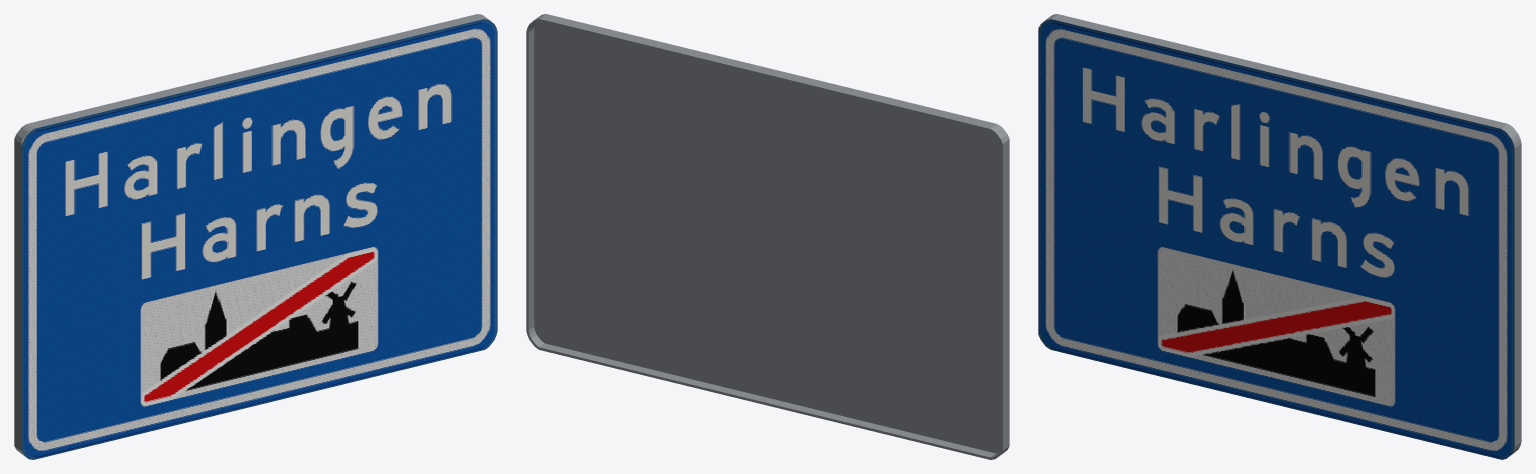
3 renders of one model, left to right at view 1: azimuth 30°, elevation 25°; view 2: azimuth 150°, elevation 25°; view 3: azimuth 330°, elevation 25°, orthographic.
Parts seen in each view (by area): view 1: cat_e875f714f3275344; view 2: cat_e875f714f3275344; view 3: cat_e875f714f3275344.
Boxes of the visible parts, x1,y1,x2,y2 form: cat_e875f714f3275344: (14, 14, 497, 459); cat_e875f714f3275344: (526, 14, 1009, 459); cat_e875f714f3275344: (1038, 14, 1521, 459).
Bounding box in the file's own units: 0.6 × 0.015 × 0.3983.
2 materials, 1 textured.
